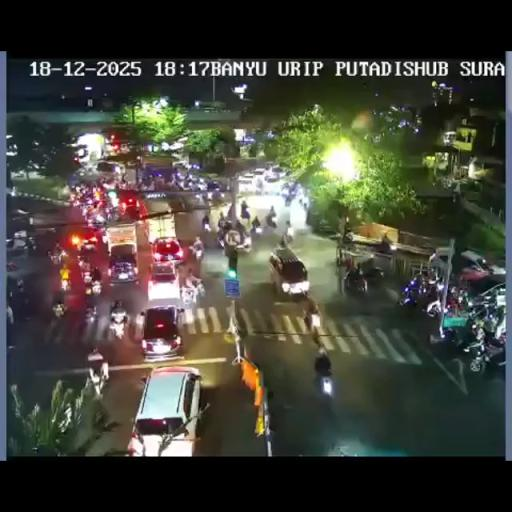Car: (124, 365, 202, 454), (139, 305, 185, 359), (269, 244, 309, 298), (146, 260, 182, 306), (108, 246, 138, 284), (151, 236, 185, 265), (116, 189, 144, 219), (73, 228, 99, 252), (94, 160, 122, 178), (263, 164, 286, 182), (237, 171, 256, 191), (252, 166, 266, 180), (171, 160, 189, 170)
Motorcycle: (206, 204, 297, 251), (462, 319, 504, 372), (397, 268, 438, 309), (6, 278, 35, 330), (441, 317, 470, 348), (314, 349, 332, 396), (343, 264, 367, 297), (443, 286, 469, 316), (181, 277, 206, 305), (303, 298, 320, 334), (86, 348, 104, 382), (51, 288, 69, 318), (108, 312, 127, 339), (131, 310, 146, 342), (372, 234, 394, 254), (224, 238, 238, 268), (86, 209, 108, 227), (424, 296, 442, 318), (84, 276, 102, 297), (206, 182, 225, 201), (188, 240, 204, 262), (48, 248, 66, 266), (58, 273, 72, 293), (135, 368, 147, 391), (236, 233, 252, 250), (104, 204, 119, 222), (174, 305, 186, 327), (84, 306, 97, 326), (476, 257, 492, 273), (214, 228, 226, 249), (76, 255, 90, 273), (249, 219, 262, 237), (280, 228, 293, 246), (184, 174, 198, 190), (336, 245, 346, 266), (234, 218, 245, 237), (26, 236, 38, 253), (218, 216, 232, 230), (100, 228, 110, 246), (139, 178, 152, 191), (265, 214, 277, 228), (342, 230, 354, 244), (200, 190, 210, 206), (298, 198, 308, 214), (240, 202, 250, 218), (283, 192, 294, 206), (202, 214, 210, 232), (255, 176, 263, 194), (16, 278, 25, 292), (290, 182, 298, 196)
